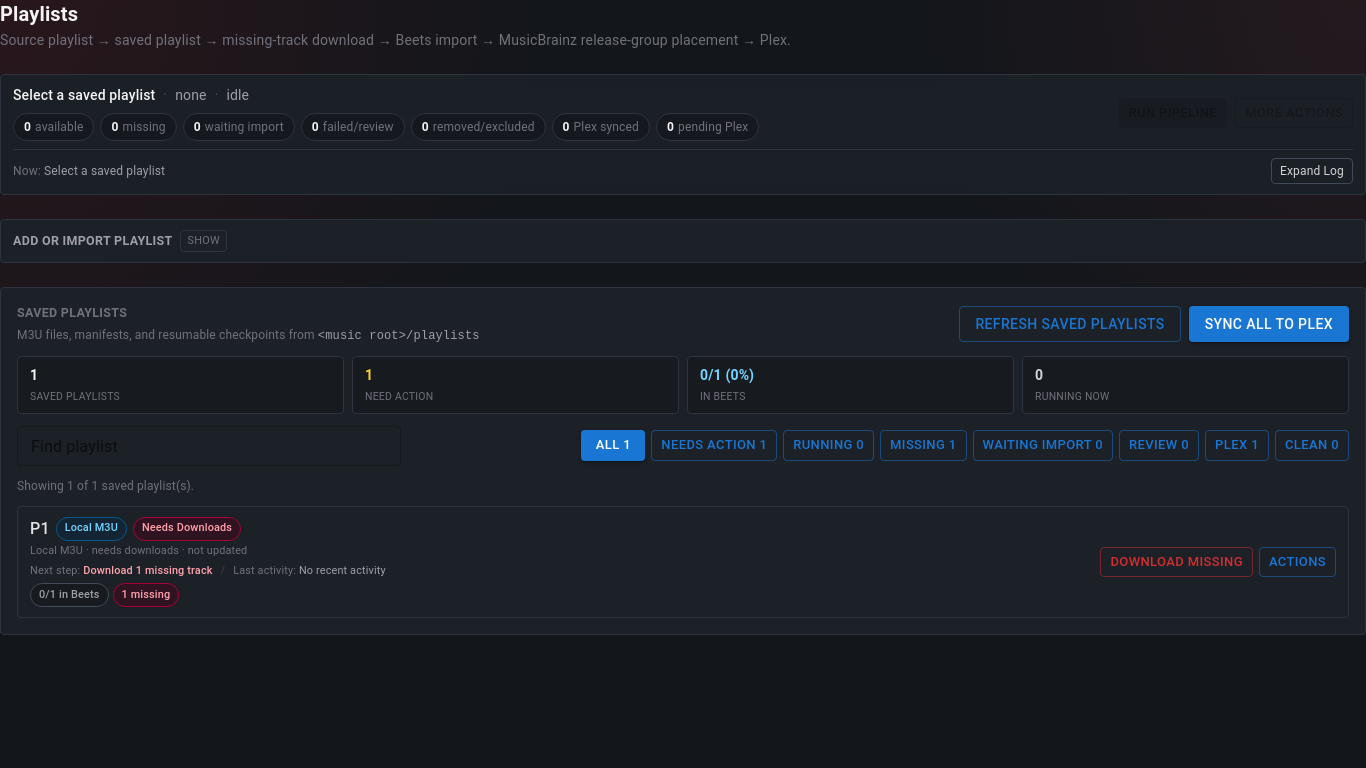
Test case: Playlists MusicBrainz outage notice (#252 NF-4, QA-3/QA-4) › shows the AcoustID warning when the suggestions report a failing acoustid_status
Click the button "Actions" at (1297, 562), box 1259,547 -> 1336,577
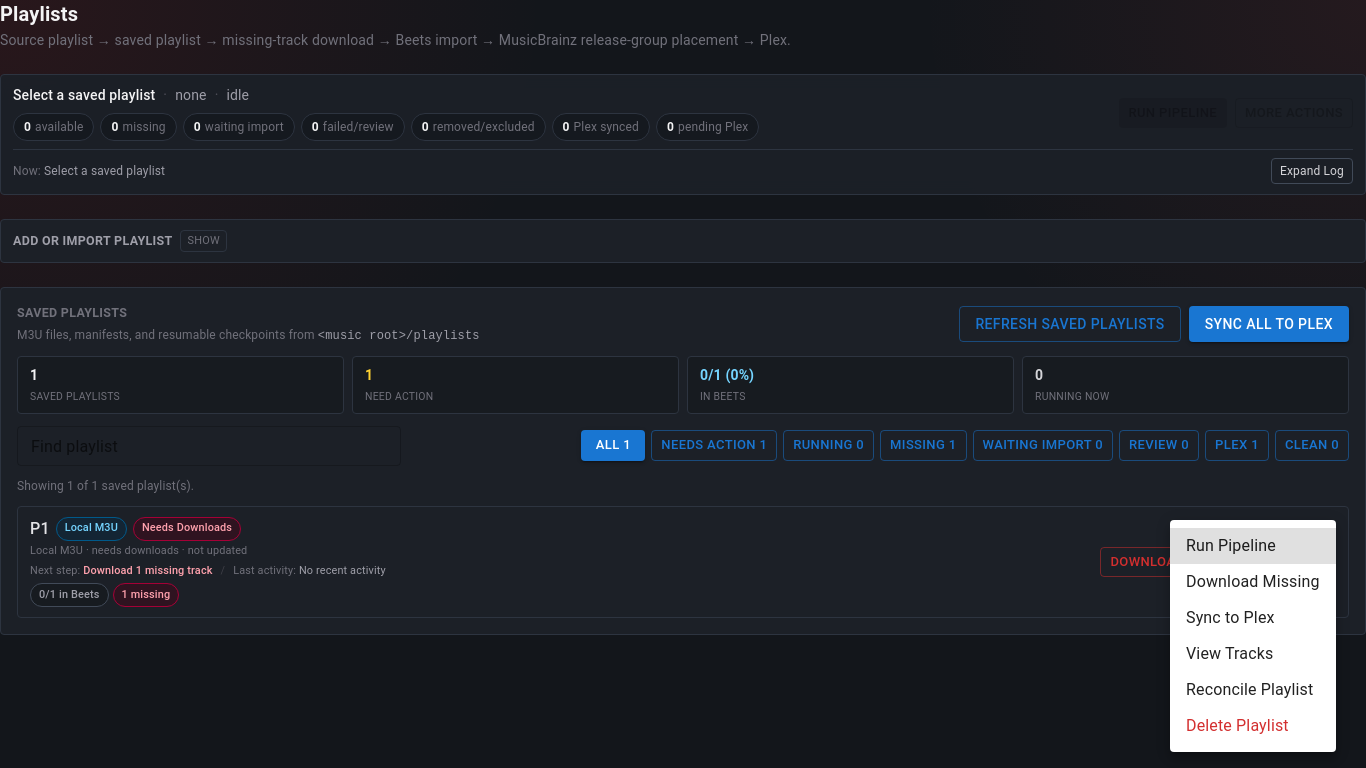
Click the menu item "View Tracks" at (1230, 654), box 1186,644 -> 1273,663
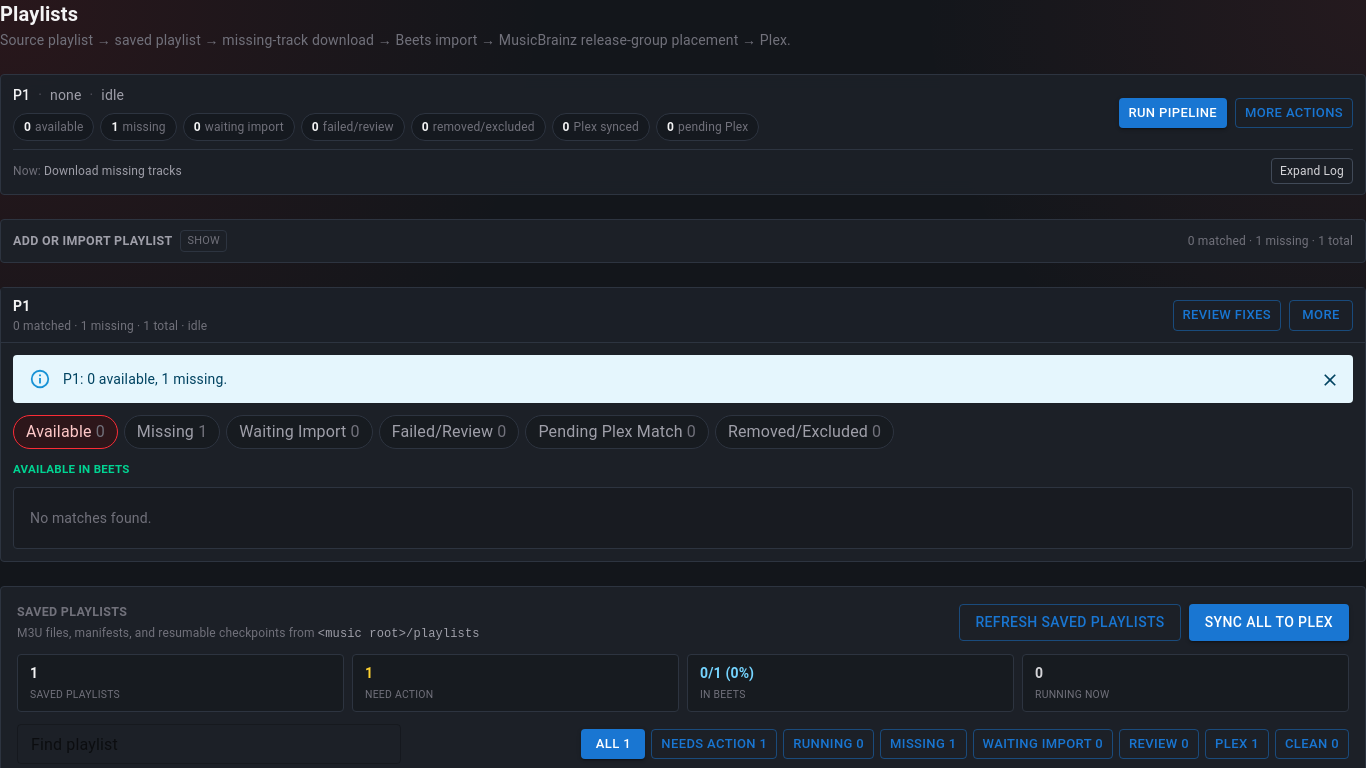
Click the button "Review Fixes" at (1227, 315), box 1173,300 -> 1281,331
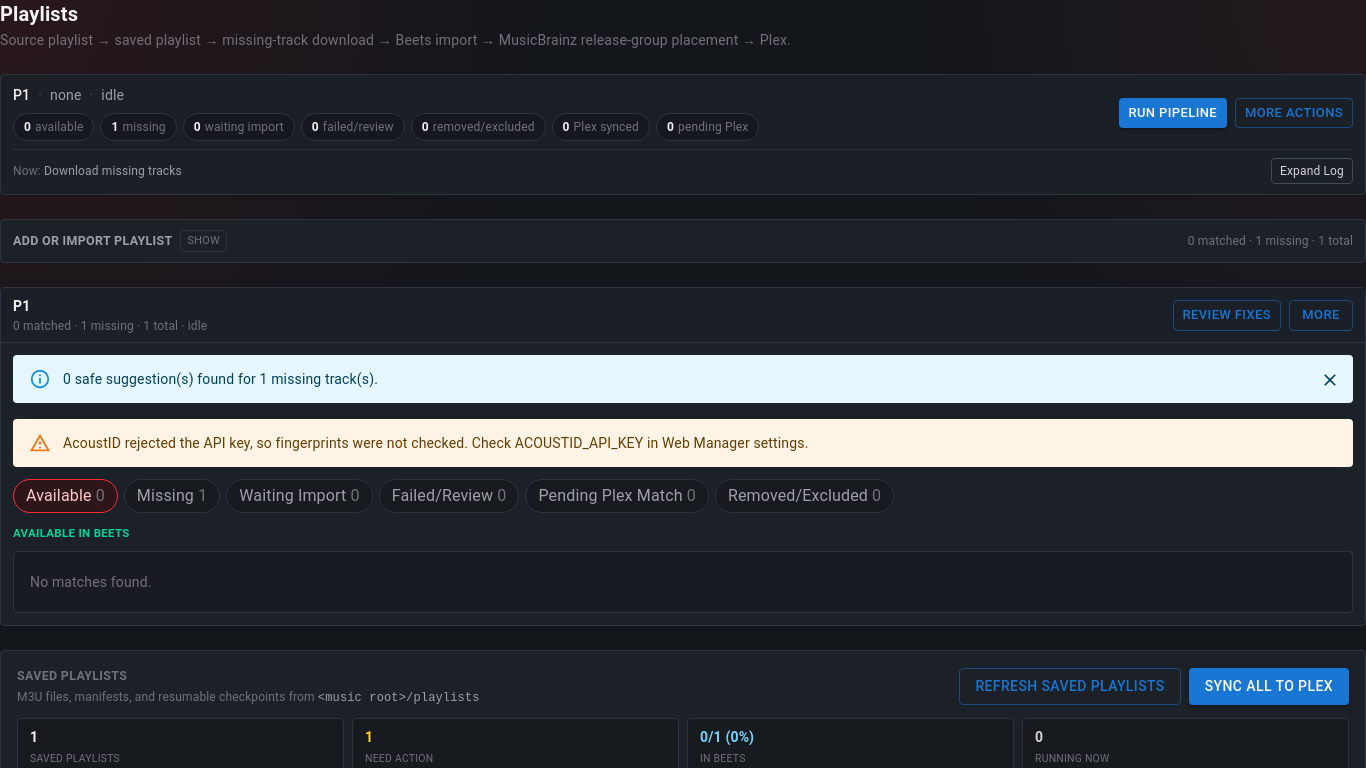
Expected: the text "AcoustID rejected the API key" is shown, 63,435 -> 808,451
